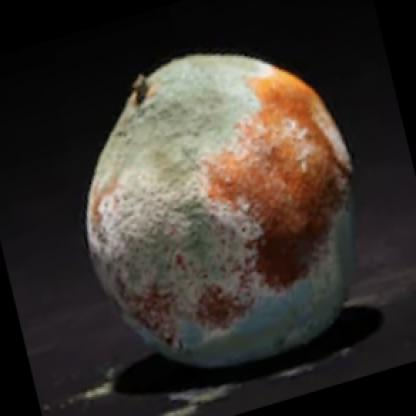rotten_orange: (94, 35, 369, 372)
